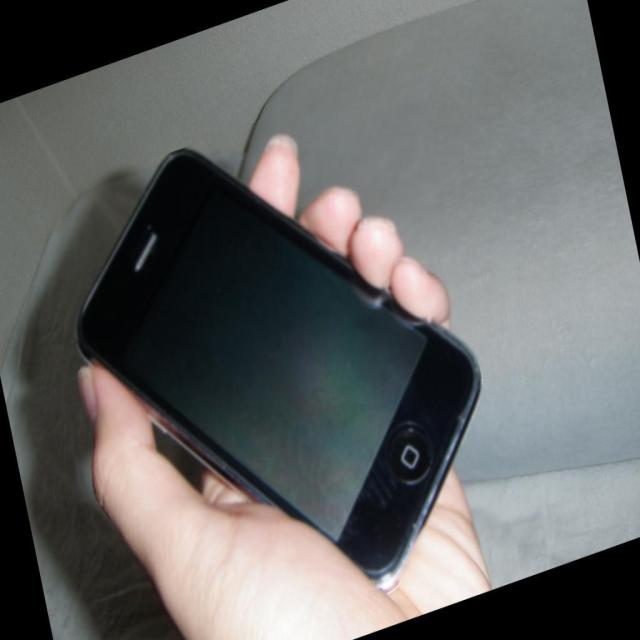handphone: (90, 152, 472, 582)
